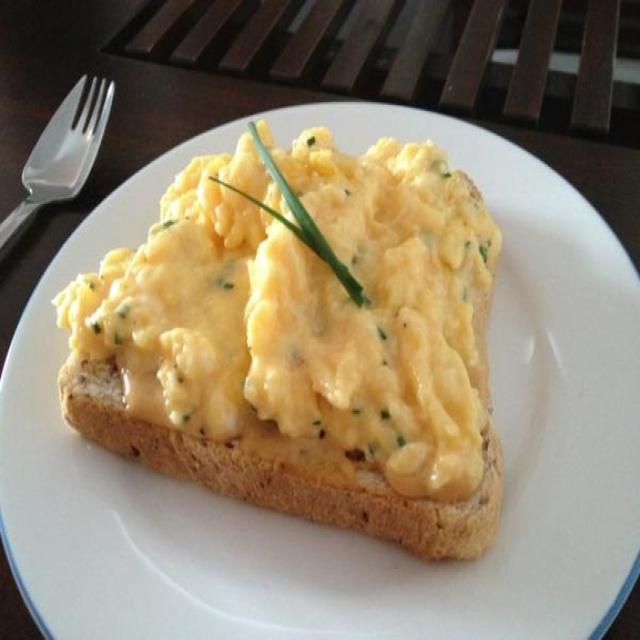鸡蛋料理: (61, 95, 541, 557)
